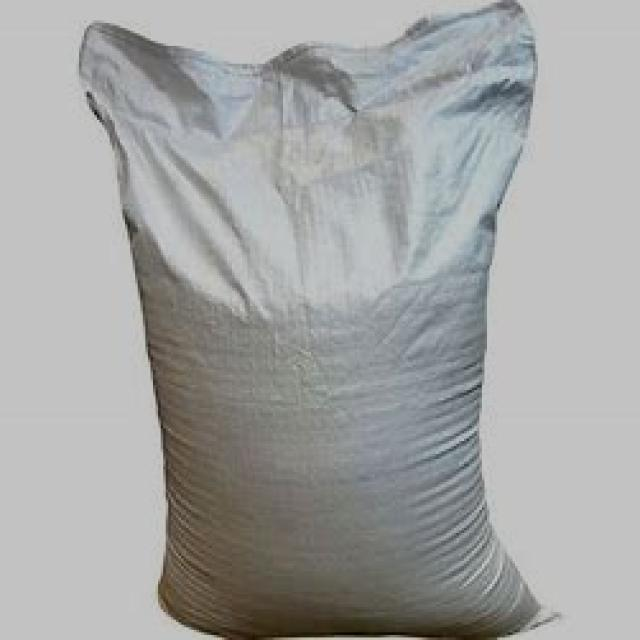gunny_bag: (79, 0, 564, 640)
